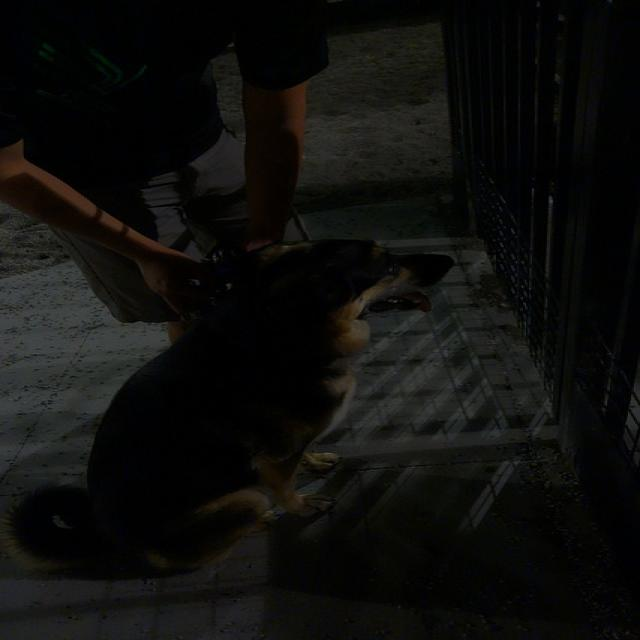Dog: (71, 228, 488, 546)
